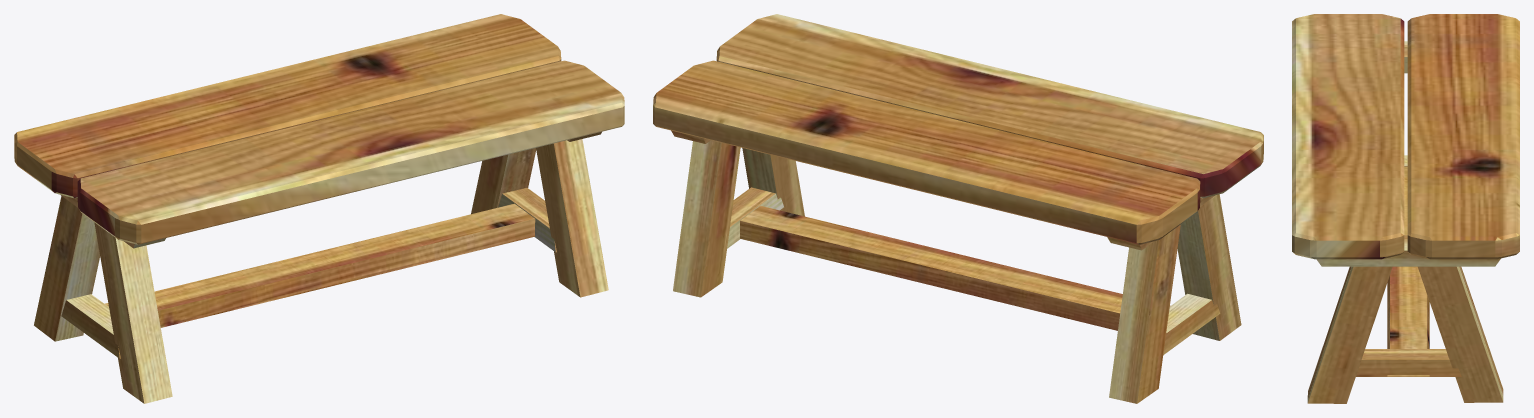
File: Picnic bench.fbx
The picture shows the model from 3 angles, left to right: view 1: azimuth 30°, elevation 25°; view 2: azimuth 150°, elevation 25°; view 3: azimuth 270°, elevation 25°; orthographic projection. The views are drawn at different scales.
Parts seen in each view (by area): view 1: Picnic bench; view 2: Picnic bench; view 3: Picnic bench.
Boxes of the visible parts, x1,y1,x2,y2 form: Picnic bench: (14,14,624,403); Picnic bench: (653,14,1263,403); Picnic bench: (1292,14,1519,403).
Size of the model in its own units: 84.62 by 30.59 by 36.2.
1 material, 1 textured.
